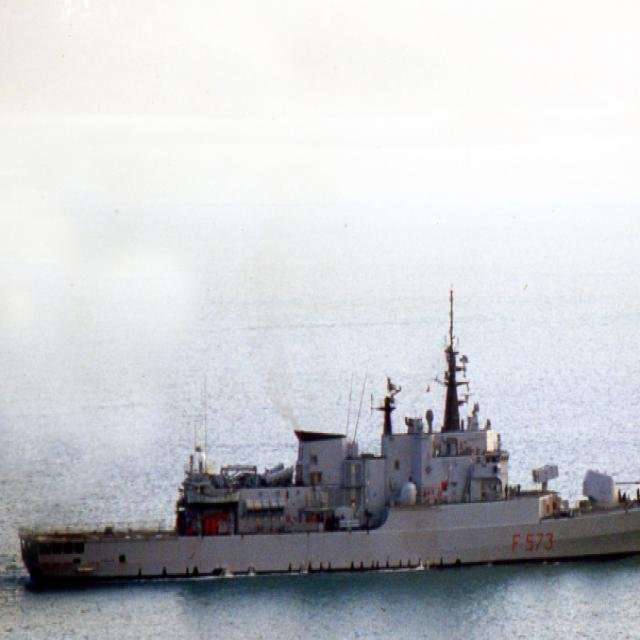Fragata: (11, 246, 640, 599)
